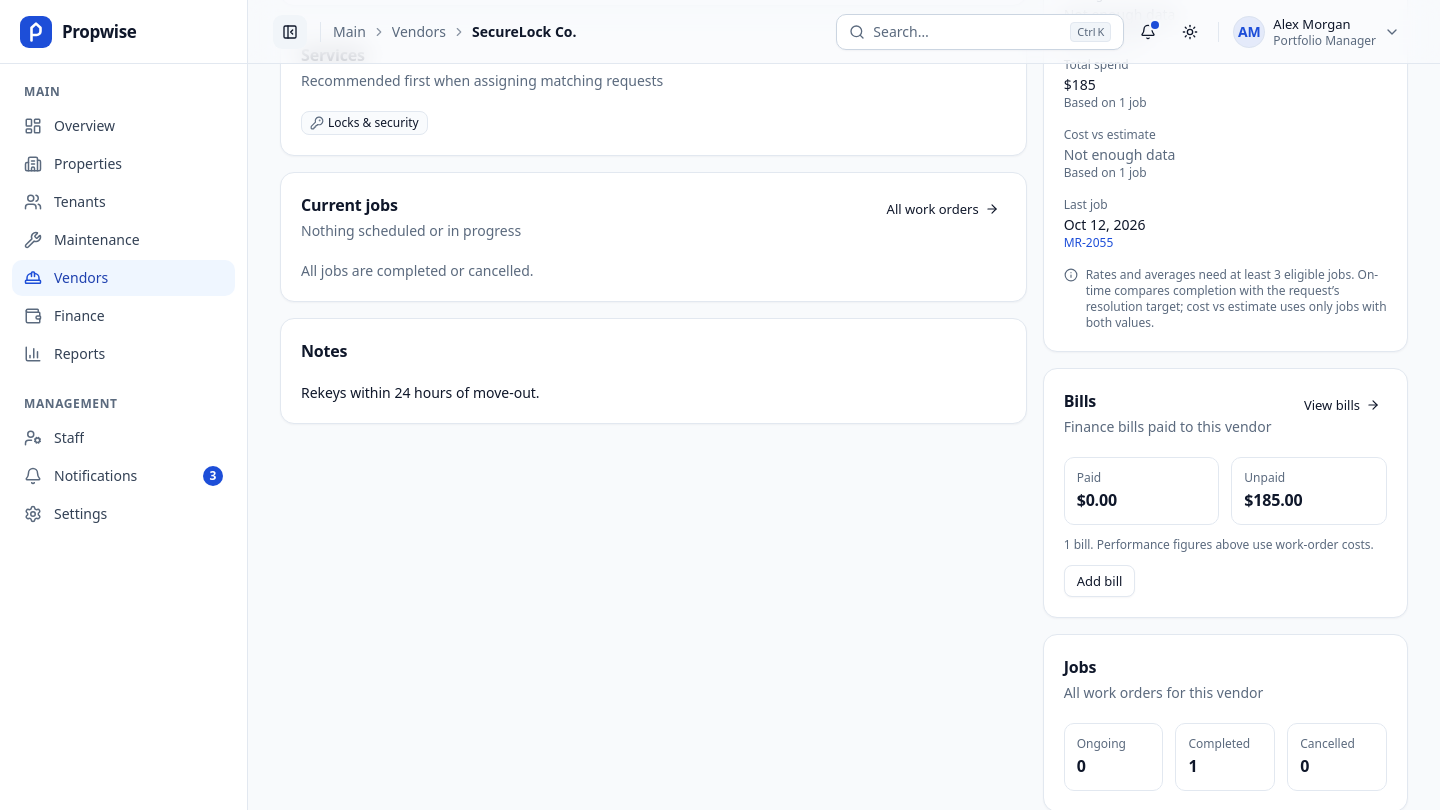
it: maintenance and vendor links › the vendor profile shows bill totals, links to the vendor’s bills and explains why it can’t be deleted
The width and height of the screenshot is (1440, 810).
(page scrolled)
Expected: the text "Paid" is shown, [1077,469,1101,486]
Expected: the text "Unpaid" is shown, [1244,469,1285,486]
Click the link "View bills" at coordinates (1342, 405), box [1304,396,1380,414]
(page scrolled)
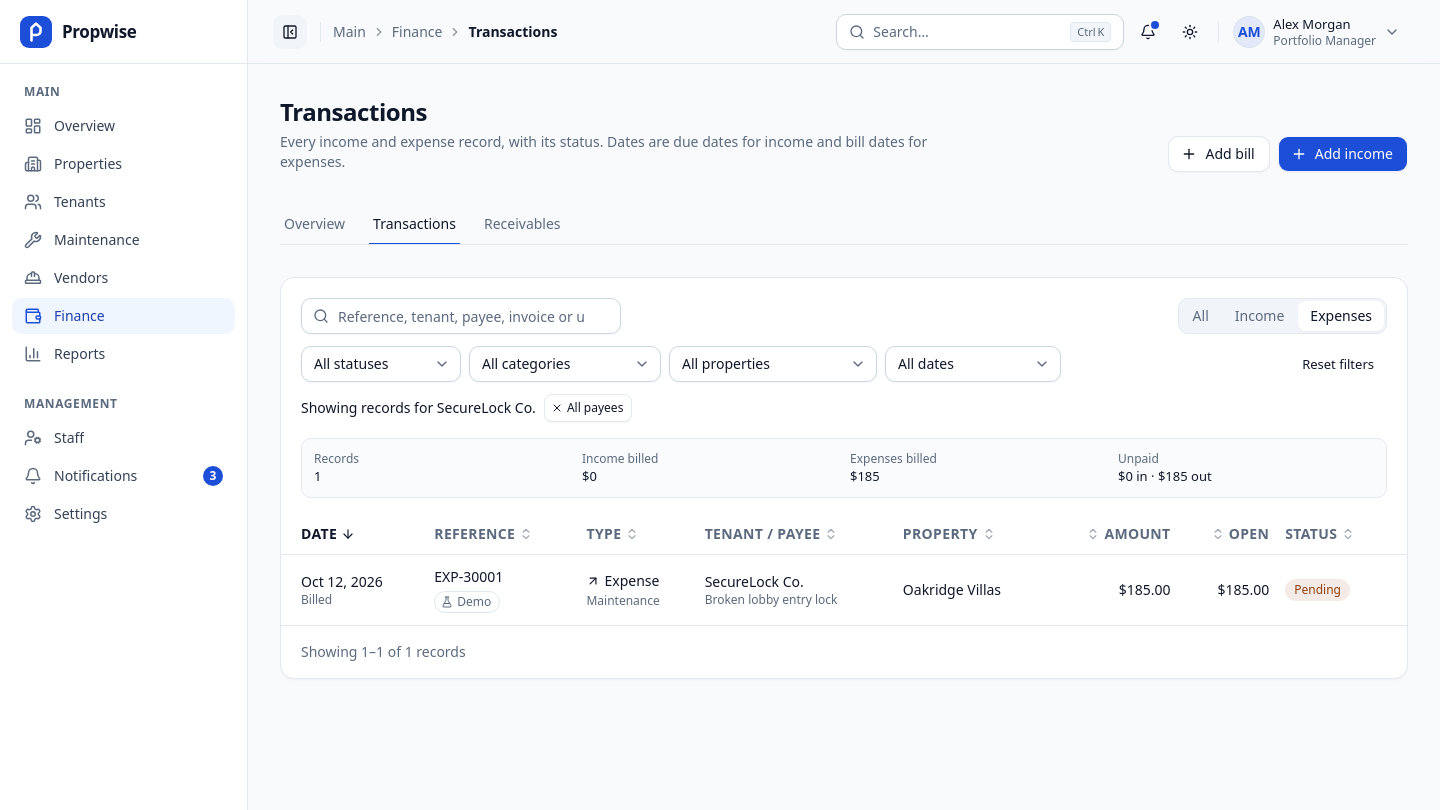
Result: the heading "Transactions" is shown at [280,96,427,128]
